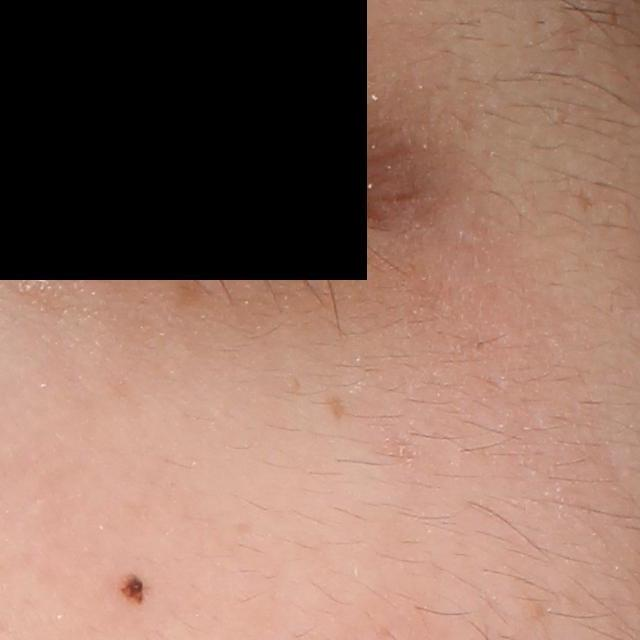melasma: (170, 271, 216, 307), (323, 394, 350, 421)
nevus: (118, 570, 149, 606)
